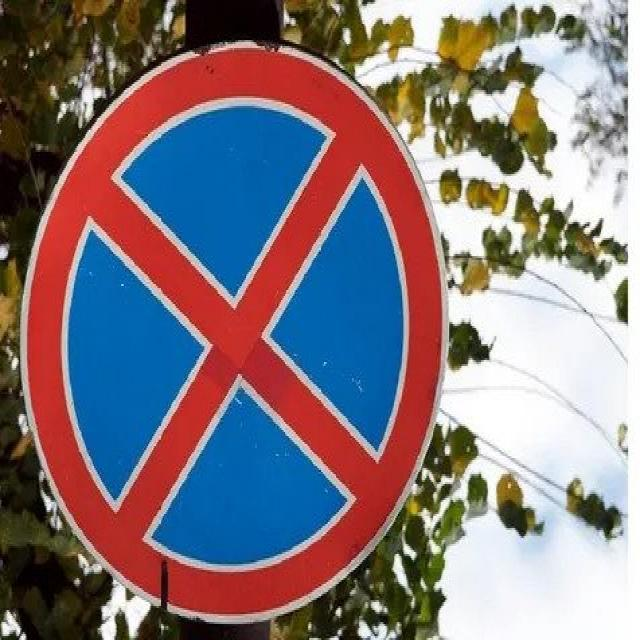no stopping: (16, 36, 454, 626)
